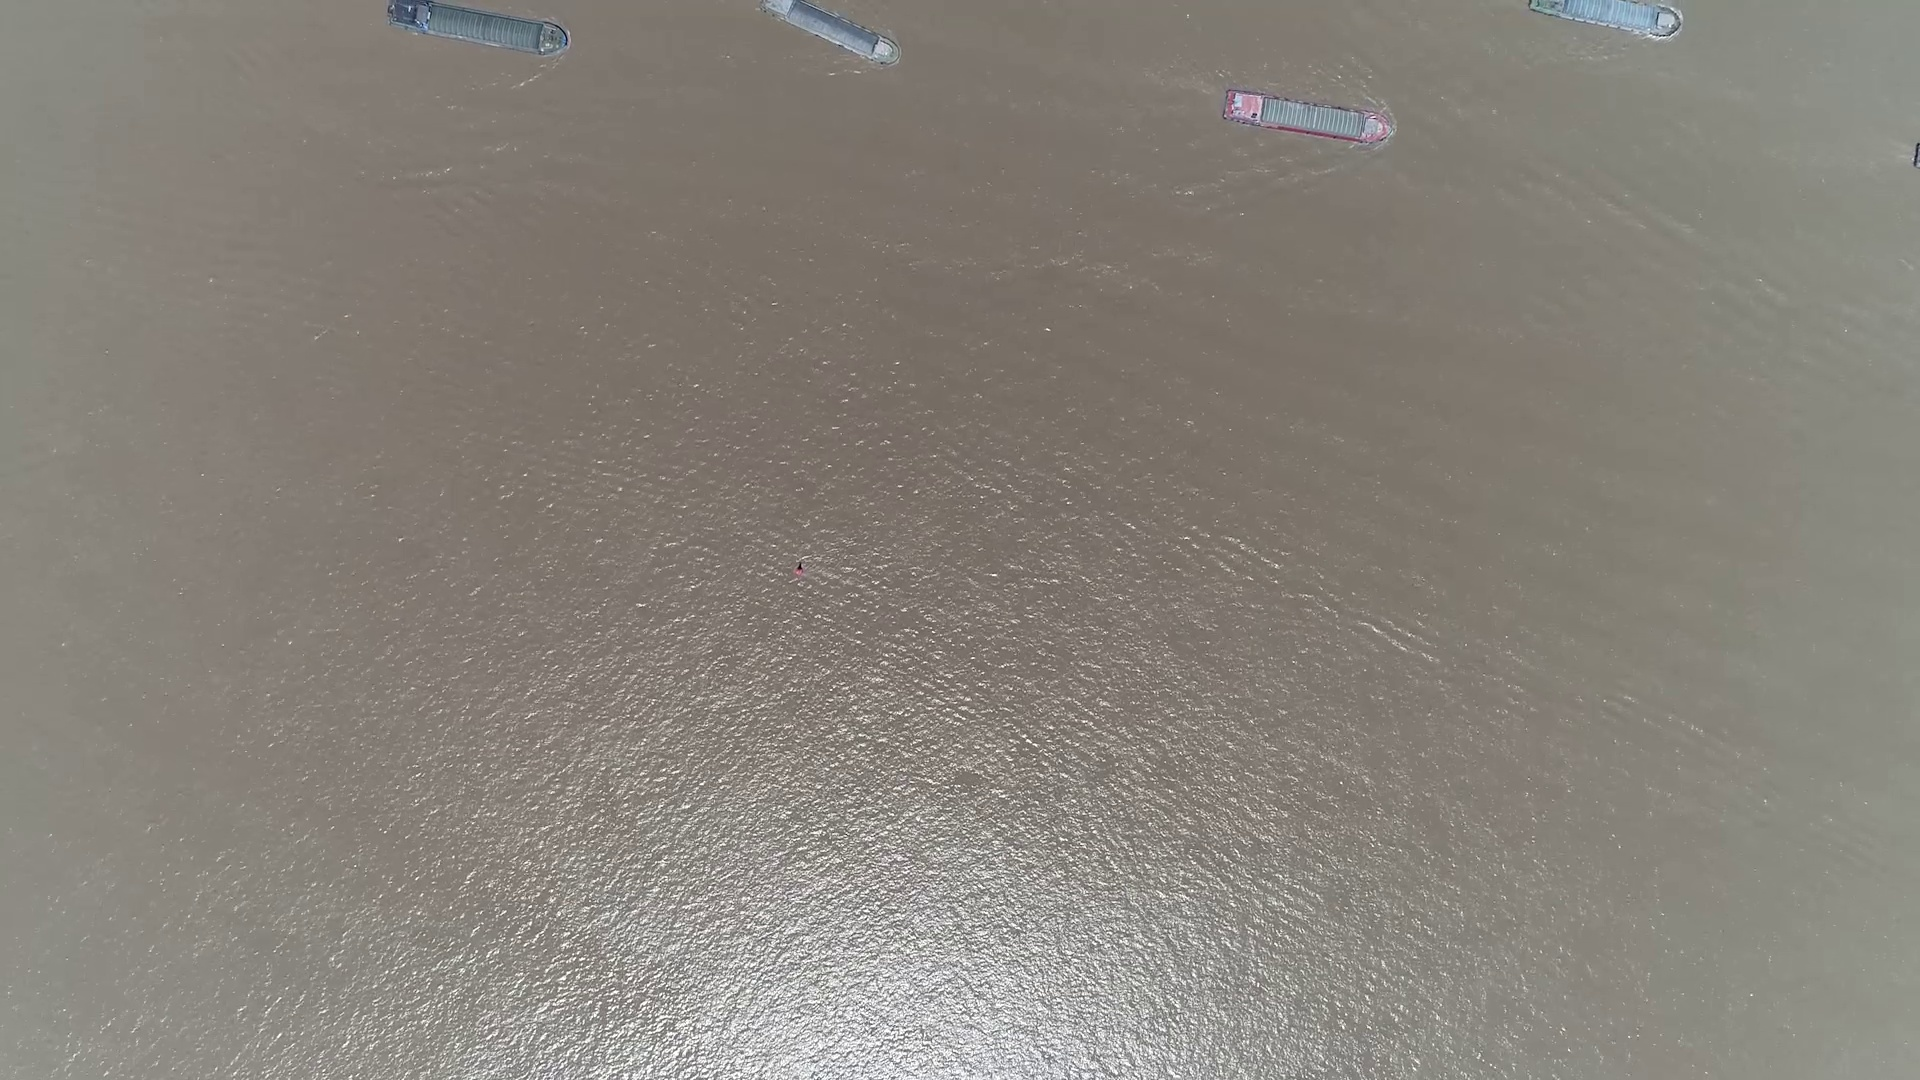ship: (386, 0, 570, 57), (1222, 90, 1393, 145), (762, 0, 897, 61), (1527, 0, 1684, 34)
